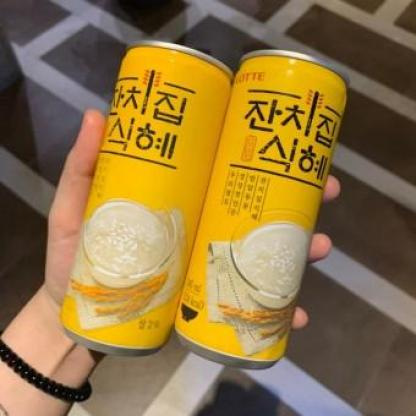alumunium_can: (176, 21, 372, 375), (54, 33, 245, 366)
